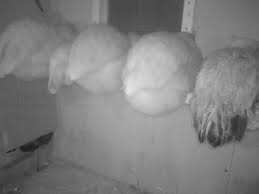chicken: (189, 29, 251, 149), (51, 8, 130, 94), (123, 37, 202, 114), (6, 17, 73, 75)
